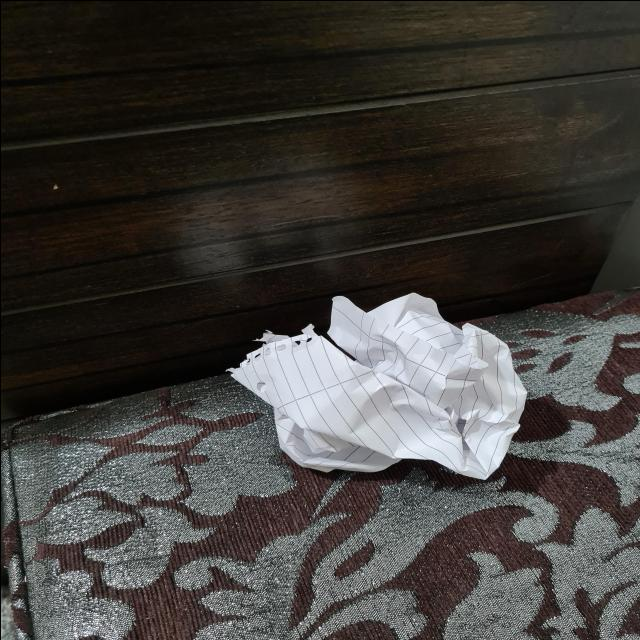kertas: (213, 296, 526, 488)
